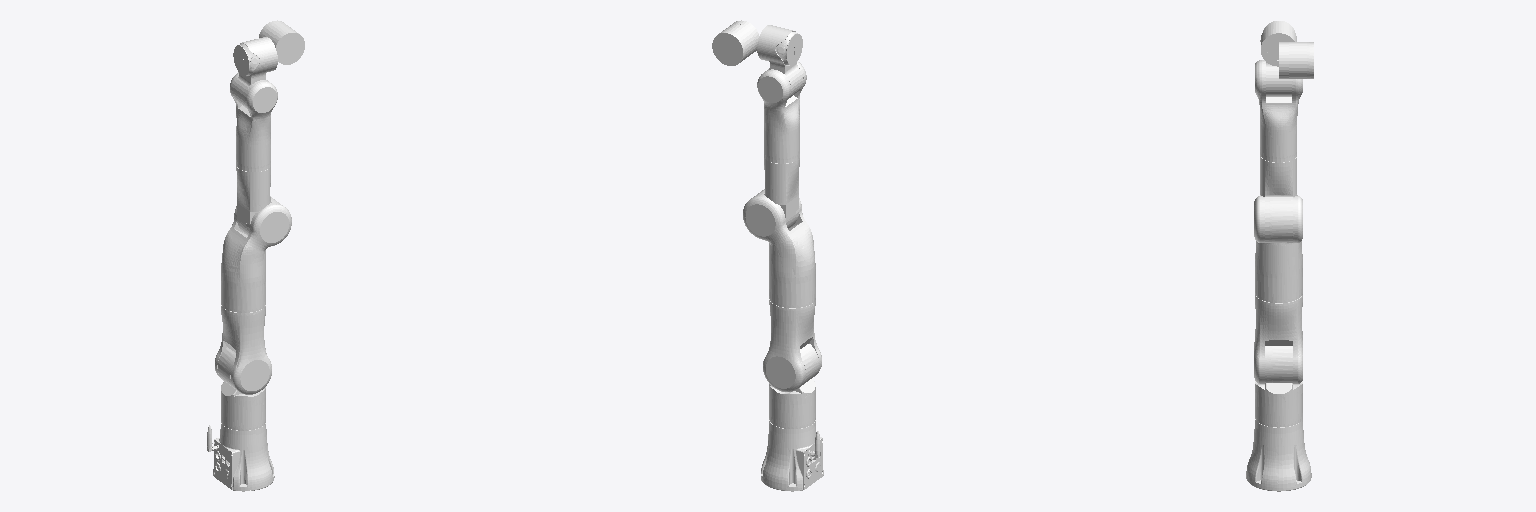
robot.urdf — GEN72:
<?xml version="1.0" encoding="utf-8"?>
<!-- This URDF was automatically created by SolidWorks to URDF Exporter! Originally created by [author] ([email redacted]) 
     Commit Version: 1.6.0-1-g15f4949  Build Version: 1.6.7594.29634
     For more information, please see http://wiki.ros.org/sw_urdf_exporter -->
<robot
  name="GEN72">
  <link
    name="base_link">
    <inertial>
      <origin
        xyz="0.000608631599864255 0.000101410841221341 0.0500536423028978"
        rpy="0 0 0" />
      <mass
        value="0.725732279372221" />
      <inertia
        ixx="0.00116526259312757"
        ixy="3.86984764040053E-06"
        ixz="3.61598634195252E-05"
        iyy="0.00114387939249157"
        iyz="-1.69159565748577E-06"
        izz="0.000799620765266164" />
    </inertial>
    <visual>
      <origin
        xyz="0 0 0"
        rpy="0 0 0" />
      <geometry>
        <mesh
          filename="package://rm_description/meshes/GEN72/base_link.STL" />
      </geometry>
      <material
        name="">
        <color
          rgba="1 1 1 1" />
      </material>
    </visual>
    <collision>
      <origin
        xyz="0 0 0"
        rpy="0 0 0" />
      <geometry>
        <mesh
          filename="package://rm_description/meshes/GEN72/base_link.STL" />
      </geometry>
    </collision>
  </link>
  <link
    name="Link1">
    <inertial>
      <origin
        xyz="3.54241616239891E-07 -6.04073277655109E-05 -0.0474562076947793"
        rpy="0 0 0" />
      <mass
        value="0.511231576042974" />
      <inertia
        ixx="0.000959440501675413"
        ixy="-1.90967914521654E-09"
        ixz="-7.95751539476966E-09"
        iyy="0.00102039305288465"
        iyz="1.46570590325123E-06"
        izz="0.000388714616194907" />
    </inertial>
    <visual>
      <origin
        xyz="0 0 0"
        rpy="0 0 0" />
      <geometry>
        <mesh
          filename="package://rm_description/meshes/GEN72/Link1.STL" />
      </geometry>
      <material
        name="">
        <color
          rgba="1 1 1 1" />
      </material>
    </visual>
    <collision>
      <origin
        xyz="0 0 0"
        rpy="0 0 0" />
      <geometry>
        <mesh
          filename="package://rm_description/meshes/GEN72/Link1.STL" />
      </geometry>
    </collision>
  </link>
  <joint
    name="joint1"
    type="revolute">
    <origin
      xyz="0 0 0.218"
      rpy="0 0 0" />
    <parent
      link="base_link" />
    <child
      link="Link1" />
    <axis
      xyz="0 0 1" />
    <limit
      lower="-3.0014"
      upper="3.0014"
      effort="25"
      velocity="3.141" />
  </joint>
  <link
    name="Link2">
    <inertial>
      <origin
        xyz="-7.13241796657627E-07 -0.0576246216952895 -3.88440270542586E-05"
        rpy="0 0 0" />
      <mass
        value="0.551907023014854" />
      <inertia
        ixx="0.00142140348660694"
        ixy="-1.11761928109077E-08"
        ixz="1.36372804172861E-08"
        iyy="0.000525714272398651"
        iyz="1.30499471806307E-06"
        izz="0.00127234961251408" />
    </inertial>
    <visual>
      <origin
        xyz="0 0 0"
        rpy="0 0 0" />
      <geometry>
        <mesh
          filename="package://rm_description/meshes/GEN72/Link2.STL" />
      </geometry>
      <material
        name="">
        <color
          rgba="1 1 1 1" />
      </material>
    </visual>
    <collision>
      <origin
        xyz="0 0 0"
        rpy="0 0 0" />
      <geometry>
        <mesh
          filename="package://rm_description/meshes/GEN72/Link2.STL" />
      </geometry>
    </collision>
  </link>
  <joint
    name="joint2"
    type="revolute">
    <origin
      xyz="0 0 0"
      rpy="-1.5708 0 0" />
    <parent
      link="Link1" />
    <child
      link="Link2" />
    <axis
      xyz="0 0 1" />
    <limit
      lower="-1.8323"
      upper="1.8323"
      effort="25"
      velocity="3.141" />
  </joint>
  <link
    name="Link3">
    <inertial>
      <origin
        xyz="0.00897441376214199 2.62633968732563E-05 -0.0738284702130494"
        rpy="0 0 0" />
      <mass
        value="0.774130450031732" />
      <inertia
        ixx="0.00242102073961797"
        ixy="-6.22596416744622E-07"
        ixz="-0.000489521447339777"
        iyy="0.00248694314969316"
        iyz="-1.4854289556066E-06"
        izz="0.00090099718971981" />
    </inertial>
    <visual>
      <origin
        xyz="0 0 0"
        rpy="0 0 0" />
      <geometry>
        <mesh
          filename="package://rm_description/meshes/GEN72/Link3.STL" />
      </geometry>
      <material
        name="">
        <color
          rgba="1 1 1 1" />
      </material>
    </visual>
    <collision>
      <origin
        xyz="0 0 0"
        rpy="0 0 0" />
      <geometry>
        <mesh
          filename="package://rm_description/meshes/GEN72/Link3.STL" />
      </geometry>
    </collision>
  </link>
  <joint
    name="joint3"
    type="revolute">
    <origin
      xyz="0 -0.28 0"
      rpy="1.5708 0 0" />
    <parent
      link="Link2" />
    <child
      link="Link3" />
    <axis
      xyz="0 0 1" />
    <limit
      lower="-3.0014"
      upper="3.0014"
      effort="25"
      velocity="3.141" />
  </joint>
  <link
    name="Link4">
    <inertial>
      <origin
        xyz="-0.0096243903445302 0.0352034287339325 0.000174576348464232"
        rpy="0 0 0" />
      <mass
        value="0.437130215853835" />
      <inertia
        ixx="0.000866914153248166"
        ixy="0.000148761646913658"
        ixz="-7.42553547350131E-07"
        iyy="0.000267753002587664"
        iyz="2.6805826548563E-06"
        izz="0.000952324298928138" />
    </inertial>
    <visual>
      <origin
        xyz="0 0 0"
        rpy="0 0 0" />
      <geometry>
        <mesh
          filename="package://rm_description/meshes/GEN72/Link4.STL" />
      </geometry>
      <material
        name="">
        <color
          rgba="1 1 1 1" />
      </material>
    </visual>
    <collision>
      <origin
        xyz="0 0 0"
        rpy="0 0 0" />
      <geometry>
        <mesh
          filename="package://rm_description/meshes/GEN72/Link4.STL" />
      </geometry>
    </collision>
  </link>
  <joint
    name="joint4"
    type="revolute">
    <origin
      xyz="0.04 0 0"
      rpy="1.5708 0 0" />
    <parent
      link="Link3" />
    <child
      link="Link4" />
    <axis
      xyz="0 0 1" />
    <limit
      lower="-2.8792"
      upper="0.9597"
      effort="25"
      velocity="3.141" />
  </joint>
  <link
    name="Link5">
    <inertial>
      <origin
        xyz="-4.79650184286029E-07 -3.84737693792612E-05 -0.0669554878200541"
        rpy="0 0 0" />
      <mass
        value="0.424276753764529" />
      <inertia
        ixx="0.0011244489011316"
        ixy="7.56623220194193E-09"
        ixz="-1.71276249932631E-08"
        iyy="0.00103382374928123"
        iyz="8.2469441747875E-07"
        izz="0.000274640088277484" />
    </inertial>
    <visual>
      <origin
        xyz="0 0 0"
        rpy="0 0 0" />
      <geometry>
        <mesh
          filename="package://rm_description/meshes/GEN72/Link5.STL" />
      </geometry>
      <material
        name="">
        <color
          rgba="1 1 1 1" />
      </material>
    </visual>
    <collision>
      <origin
        xyz="0 0 0"
        rpy="0 0 0" />
      <geometry>
        <mesh
          filename="package://rm_description/meshes/GEN72/Link5.STL" />
      </geometry>
    </collision>
  </link>
  <joint
    name="joint5"
    type="revolute">
    <origin
      xyz="-0.019 0.2525 0"
      rpy="-1.5708 0 0" />
    <parent
      link="Link4" />
    <child
      link="Link5" />
    <axis
      xyz="0 0 1" />
    <limit
      lower="-3.0014"
      upper="3.0014"
      effort="5"
      velocity="3.141" />
  </joint>
  <link
    name="Link6">
    <inertial>
      <origin
        xyz="0.00184221691932426 0.0379763265035087 -9.21090904324274E-05"
        rpy="0 0 0" />
      <mass
        value="0.302793039332829" />
      <inertia
        ixx="0.00014011480503376"
        ixy="-3.00204828273403E-06"
        ixz="-4.58155498967514E-10"
        iyy="0.000132631402640971"
        iyz="7.01344540252765E-10"
        izz="0.000155721320872423" />
    </inertial>
    <visual>
      <origin
        xyz="0 0 0"
        rpy="0 0 0" />
      <geometry>
        <mesh
          filename="package://rm_description/meshes/GEN72/Link6.STL" />
      </geometry>
      <material
        name="">
        <color
          rgba="1 1 1 1" />
      </material>
    </visual>
    <collision>
      <origin
        xyz="0 0 0"
        rpy="0 0 0" />
      <geometry>
        <mesh
          filename="package://rm_description/meshes/GEN72/Link6.STL" />
      </geometry>
    </collision>
  </link>
  <joint
    name="joint6"
    type="revolute">
    <origin
      xyz="0 0 0"
      rpy="1.5708 0 0" />
    <parent
      link="Link5" />
    <child
      link="Link6" />
    <axis
      xyz="0 0 1" />
    <limit
      lower="-1.707"
      upper="1.783"
      effort="5"
      velocity="3.141" />
  </joint>
  <link
    name="Link7">
    <inertial>
      <origin
        xyz="0.000199885014846801 0.0211000079719058 -4.90848725240361E-08"
        rpy="0 0 0" />
      <mass
        value="0.127401822079286" />
      <inertia
        ixx="4.95156474993269E-05"
        ixy="3.10143792228514E-12"
        ixz="2.55814128583062E-10"
        iyy="6.12184422048225E-05"
        iyz="-1.37181281244006E-11"
        izz="4.95166727643872E-05" />
    </inertial>
    <visual>
      <origin
        xyz="0 0 0"
        rpy="0 0 0" />
      <geometry>
        <mesh
          filename="package://rm_description/meshes/GEN72/Link7.STL" />
      </geometry>
      <material
        name="">
        <color
          rgba="1 1 1 1" />
      </material>
    </visual>
    <collision>
      <origin
        xyz="0 0 0"
        rpy="0 0 0" />
      <geometry>
        <mesh
          filename="package://rm_description/meshes/GEN72/Link7.STL" />
      </geometry>
    </collision>
  </link>
  <joint
    name="joint7"
    type="revolute">
    <origin
      xyz="0.0742 0.067 0"
      rpy="0 0 1.5708" />
    <parent
      link="Link6" />
    <child
      link="Link7" />
    <axis
      xyz="0 1 0" />
    <limit
      lower="-3.0014"
      upper="3.0014"
      effort="5"
      velocity="3.141" />
  </joint>
</robot>

--- Render facts (derived) ---
3 views of the same robot in one strip: view 1: azimuth 30°, elevation 25°; view 2: azimuth 150°, elevation 25°; view 3: azimuth 270°, elevation 25° (orthographic).
Model GEN72 with 8 links and 7 joints (7 revolute), rooted at base_link, posed every joint at zero.
Links seen in each view (by area): view 1: Link3, base_link, Link2, Link5, Link1, Link6, Link4, Link7; view 2: Link3, base_link, Link2, Link5, Link1, Link6, Link4, Link7; view 3: Link3, base_link, Link1, Link5, Link2, Link4, Link6, Link7.
Link boxes in pixels (x1,y1,x2,y2): Link3: (221,203,291,312); base_link: (207,423,274,491); Link2: (215,305,271,394); Link5: (230,72,277,171); Link1: (218,347,265,430); Link6: (233,37,277,107); Link4: (236,166,279,235); Link7: (259,20,304,64); Link3: (743,195,815,307); base_link: (761,420,823,491); Link2: (763,299,821,391); Link5: (757,61,806,163); Link1: (769,344,818,428); Link6: (757,25,803,97); Link4: (754,158,799,228); Link7: (712,20,758,65); Link3: (1254,195,1302,302); base_link: (1246,419,1311,491); Link1: (1255,346,1302,427); Link5: (1255,60,1302,162); Link2: (1254,295,1302,383); Link4: (1260,155,1296,242); Link6: (1260,21,1296,96); Link7: (1279,42,1313,78).
Size in the robot's own frame: 0.1909 by 0.1135 by 0.8487 metres.
8 mesh visuals loaded from 8 distinct referenced files (8 binary STL).